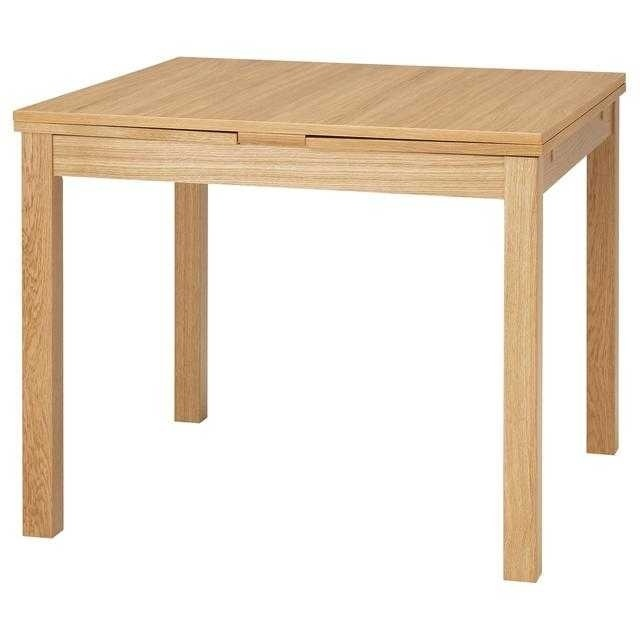obstacle: (14, 58, 624, 581)
